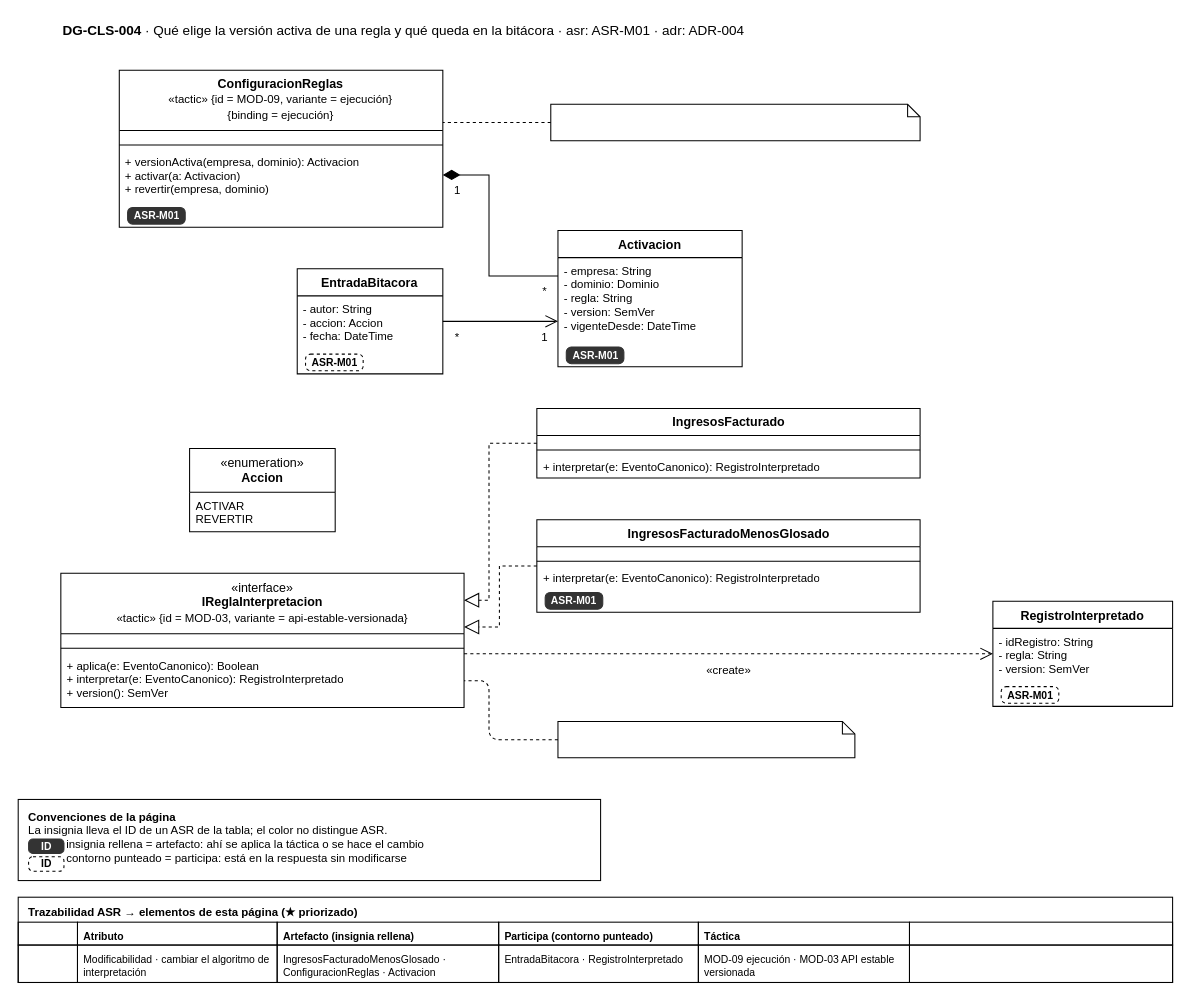
The diagram is 1191 pixels wide and 1000 high, and some of its shapes have lost their labels. The centre of each missing label's shape, as x and y in pixels:
"ADR-004 · activar o revertir es cambiar un dato" goes at [735,122].
"ADR-004 · una versión más que retirar" goes at [706,739].
"ASR" goes at [47,933].
"ASR-M01 ★" goes at [47,963].
"Medida" goes at [1040,933].
"≤ 24 h-h desde la solicitud hasta producción" goes at [1040,963].
